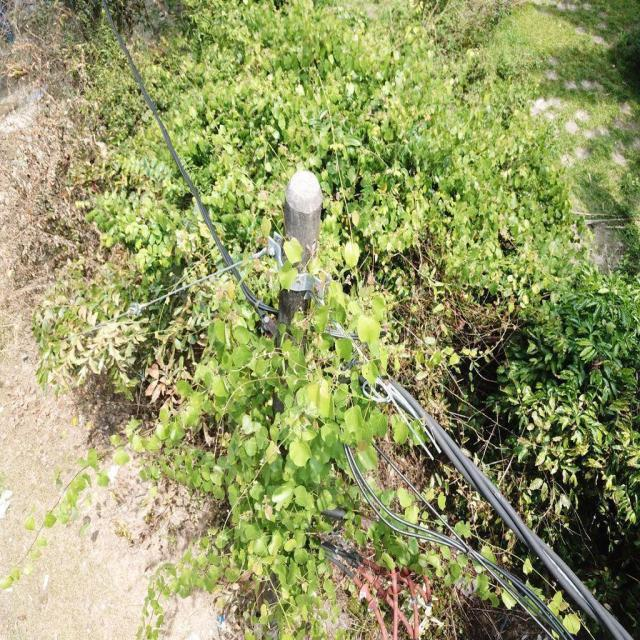critical vegetation: (173, 224, 416, 538)
